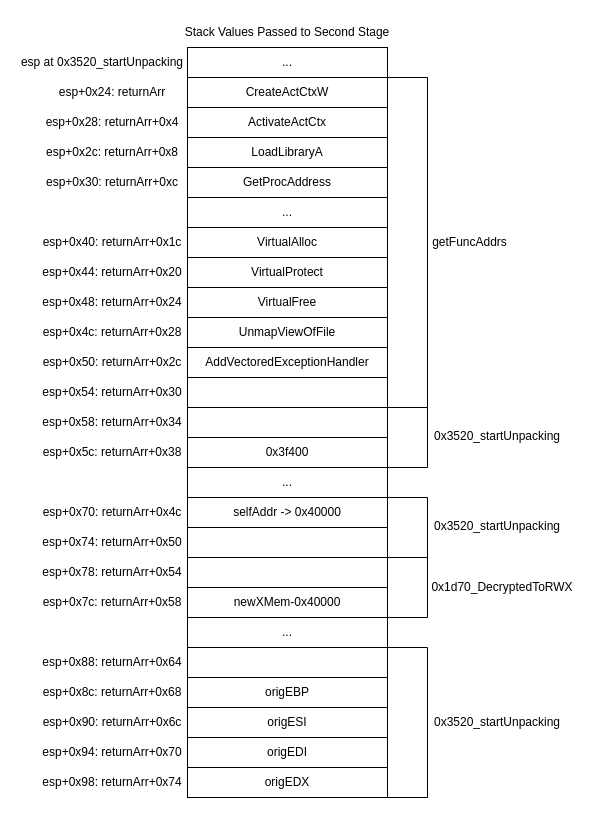
Some shapes in this 594 by 816 pixel diagram are drawn without their labels. Each missing label, with the centre of its shape:
newRWMem+0x940f: the point at 287,422
newXMem: the point at 287,572
origESP: the point at 287,662
RemoveVectoredExceptionHandler: the point at 287,392
selfSizeOfImage -> 0x9e000: the point at 287,542
